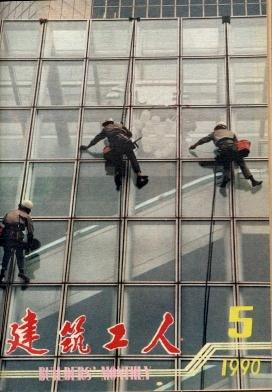helmet: (22, 201, 33, 213), (216, 120, 229, 129), (105, 116, 115, 127)
